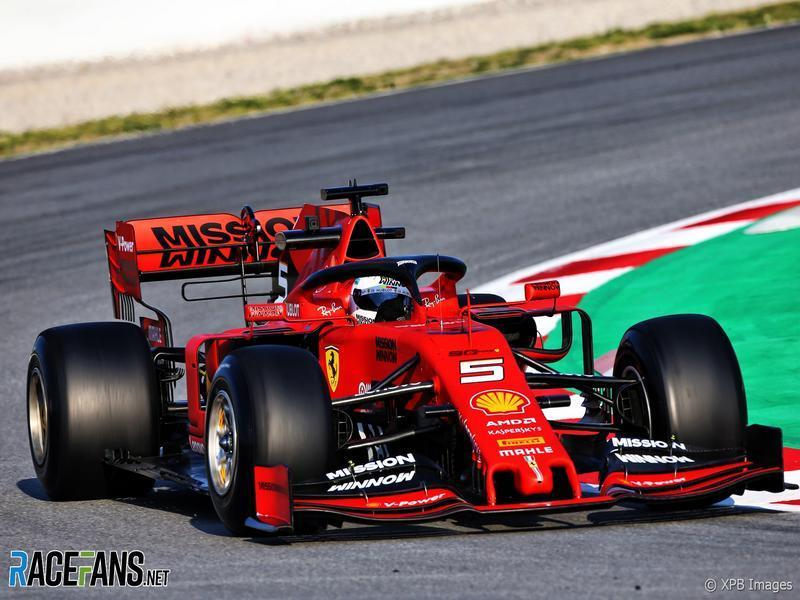f1: (27, 179, 787, 534)
